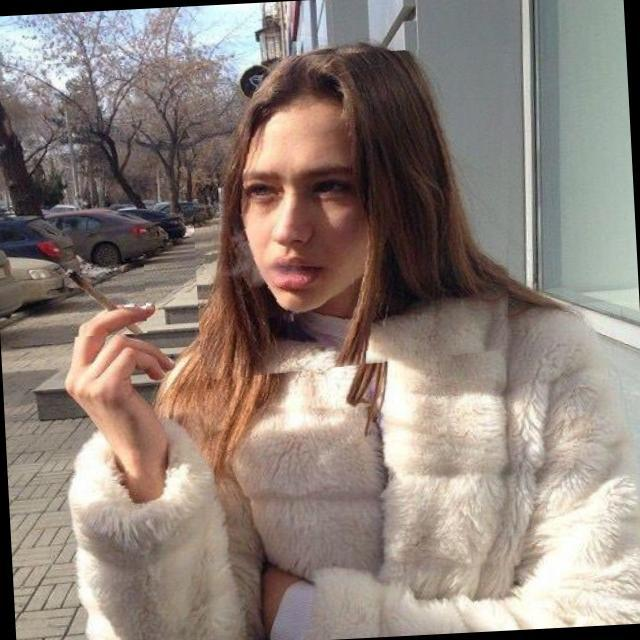cigarette: (51, 244, 148, 338)
